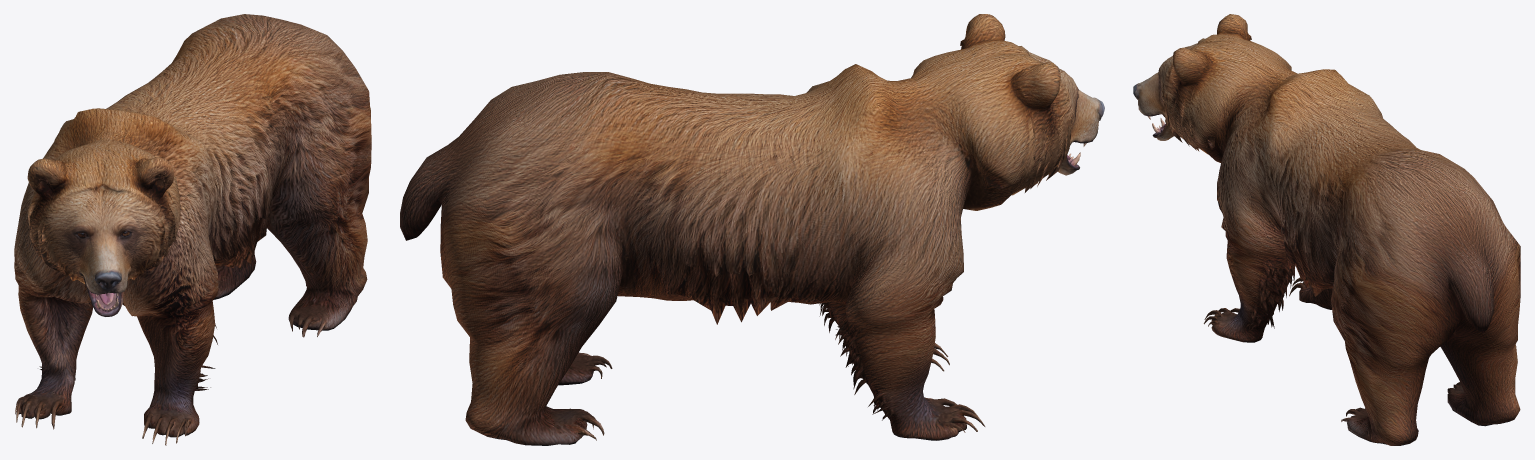
Rendered from bear.glb.
3 renders of one model, left to right at view 1: azimuth 30°, elevation 25°; view 2: azimuth 150°, elevation 25°; view 3: azimuth 270°, elevation 25°, orthographic. The views are drawn at different scales.
Parts seen in each view (by area): view 1: Model; view 2: Model; view 3: Model.
Part boxes in pixels (x1=…): Model: x1=14, y1=14, x2=371, y2=445; Model: x1=400, y1=14, x2=1104, y2=445; Model: x1=1133, y1=14, x2=1520, y2=445.
Bounding box in the file's own units: 1 × 0.6595 × 0.863.
Materials: 1 (1 with a texture image).
